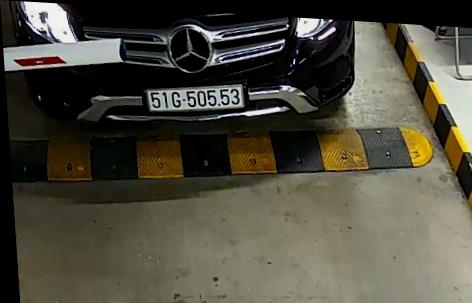License_Plate: (140, 78, 248, 113)
